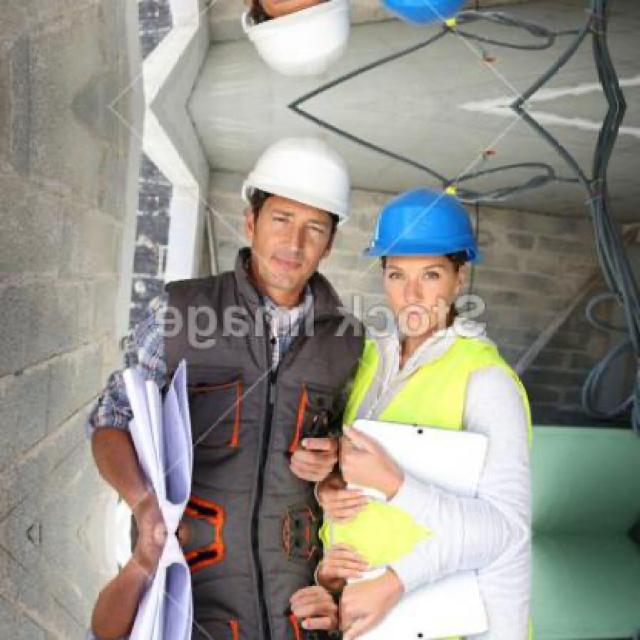con casco: (151, 134, 359, 308), (349, 188, 518, 341)
